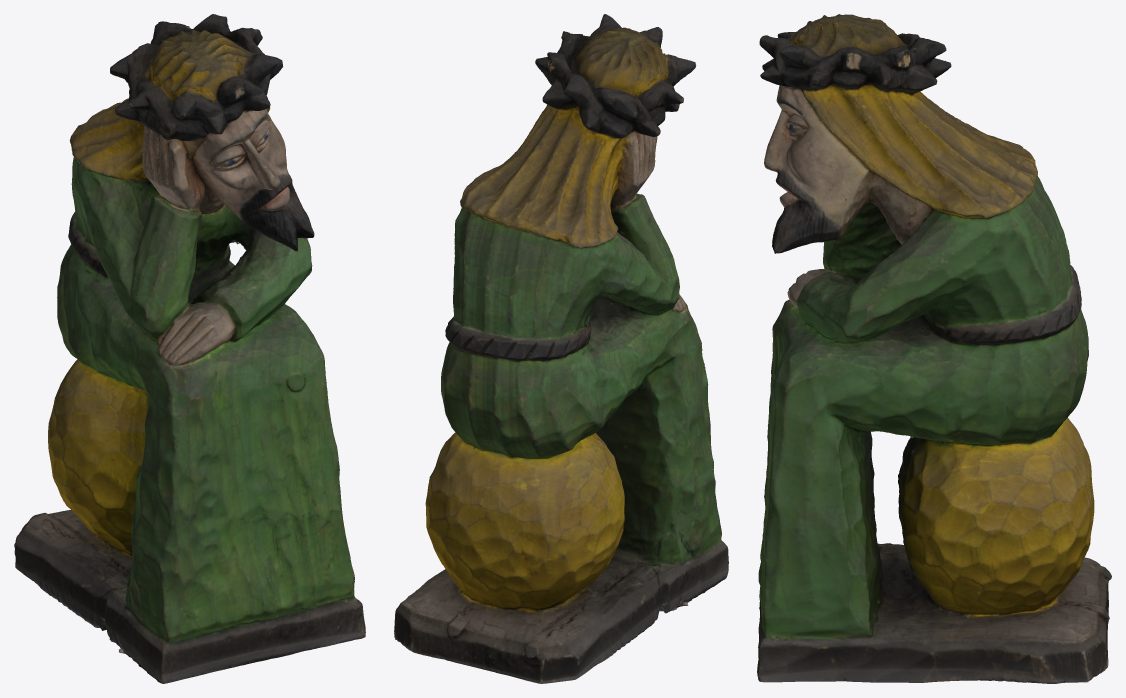
Rendered from MPLW_E_1085_lowpoly.glb.
3 views of the same model, side by side, from view 1: azimuth 30°, elevation 25°; view 2: azimuth 150°, elevation 25°; view 3: azimuth 270°, elevation 25° (orthographic). The views are drawn at different scales.
Visible parts, largest first — view 1: MPLW_E_1085_lowpoly; view 2: MPLW_E_1085_lowpoly; view 3: MPLW_E_1085_lowpoly.
Part boxes in pixels (x1=…): MPLW_E_1085_lowpoly: x1=14, y1=14, x2=365, y2=683; MPLW_E_1085_lowpoly: x1=394, y1=14, x2=728, y2=683; MPLW_E_1085_lowpoly: x1=757, y1=14, x2=1111, y2=683.
Bounding box in the file's own units: 0.1366 × 0.3751 × 0.1999.
Materials: 1 (1 with a texture image).
